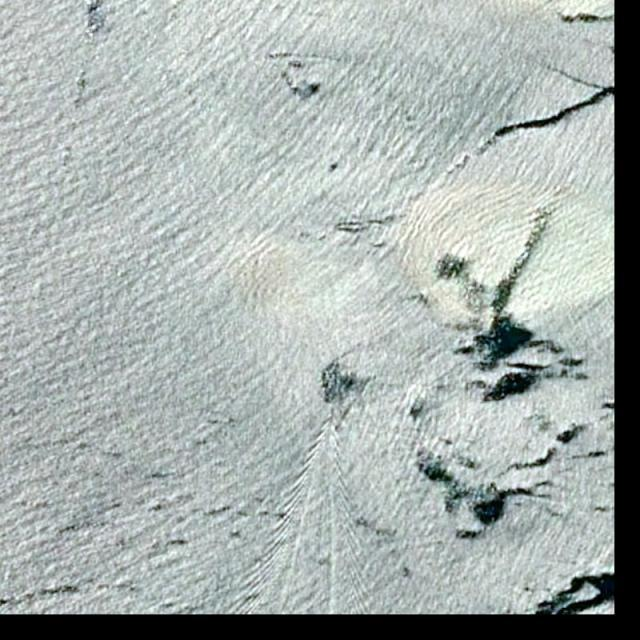ship: (327, 405, 337, 422)
